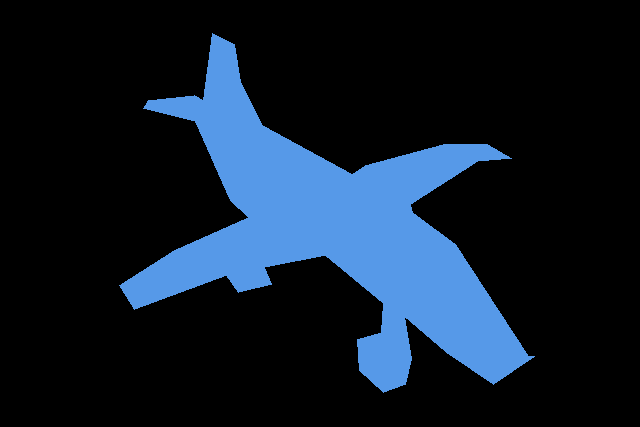Airplane: (119, 33, 534, 392)
